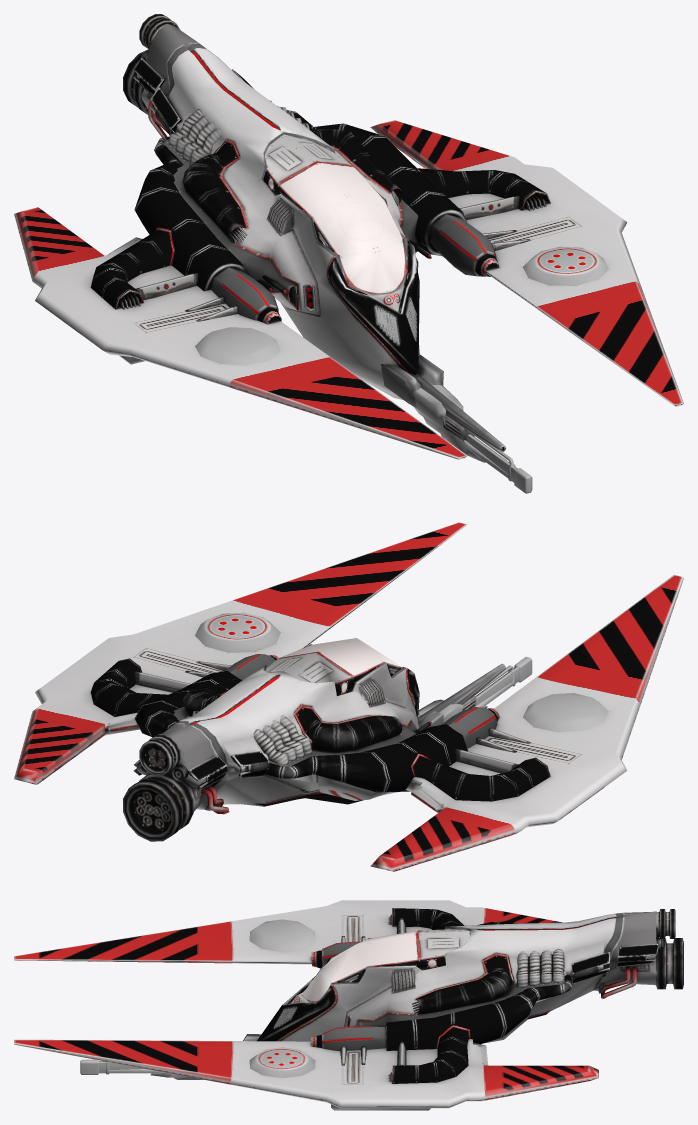
Rendered from Spaceship.fbx.
3 views of the same model, one above another, from view 1: azimuth 30°, elevation 25°; view 2: azimuth 150°, elevation 25°; view 3: azimuth 270°, elevation 25° (orthographic). The views are drawn at different scales.
Parts seen in each view (by area): view 1: Spaceship, Glass, Door; view 2: Spaceship, Door, Glass; view 3: Spaceship, Glass, Door.
Boxes of the visible parts, left/top/right/bottom form: Spaceship: left=14, top=14, right=683, bottom=493; Glass: left=278, top=162, right=407, bottom=293; Door: left=263, top=136, right=352, bottom=254; Spaceship: left=14, top=522, right=683, bottom=871; Door: left=266, top=651, right=402, bottom=695; Glass: left=280, top=638, right=402, bottom=676; Spaceship: left=14, top=900, right=683, bottom=1110; Glass: left=301, top=930, right=419, bottom=1002; Door: left=333, top=929, right=470, bottom=982.
Size of the model in its own units: 6.16 by 2.39 by 8.57.
